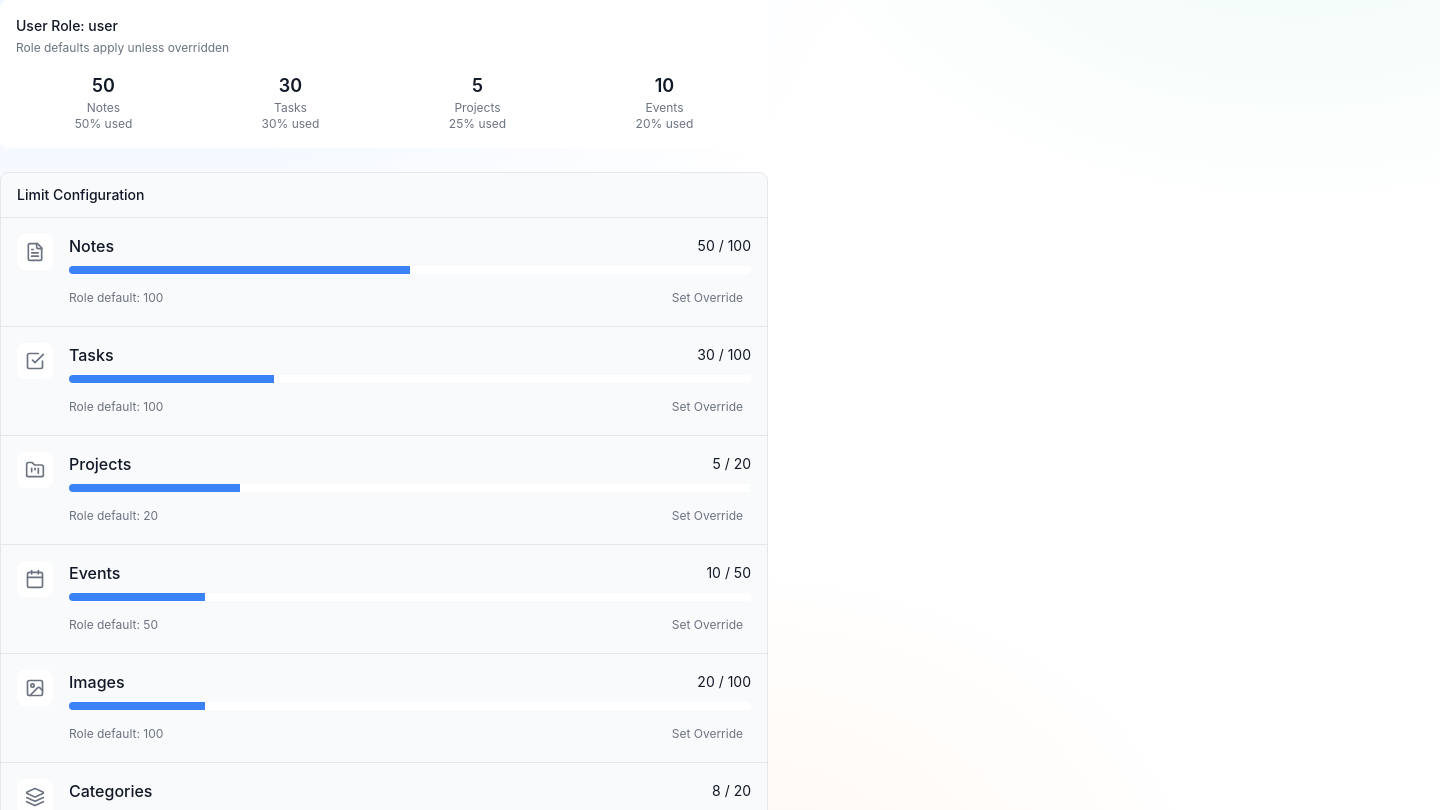
Test case: UserLimitsTab › shows success message after saving
Note: Click Set Override on first item
Click the 1st button "Set Override" at (707, 298), box 664,286 -> 751,310
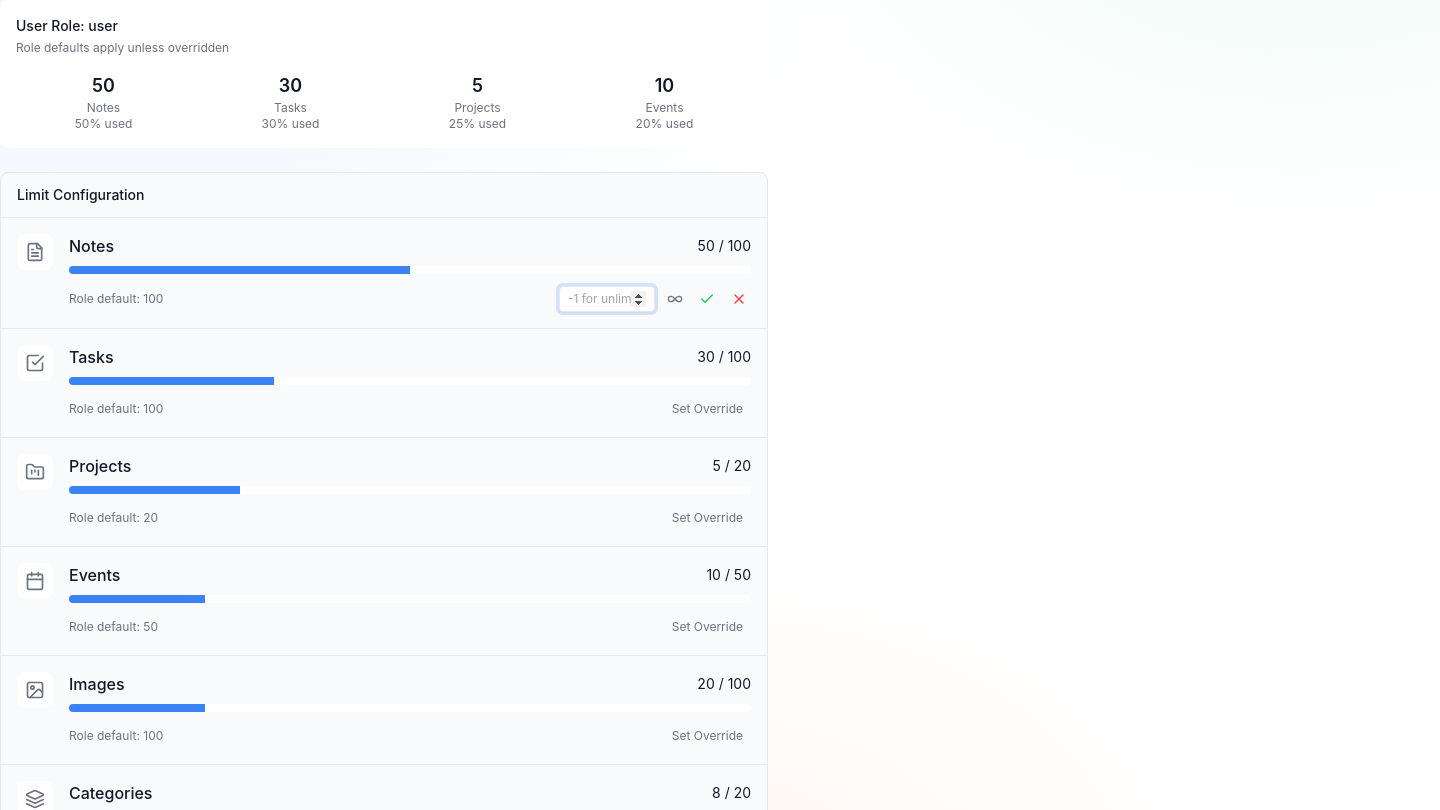
Note: Type a value
Type "200" into the number field at (607, 299), box 559,286 -> 655,312
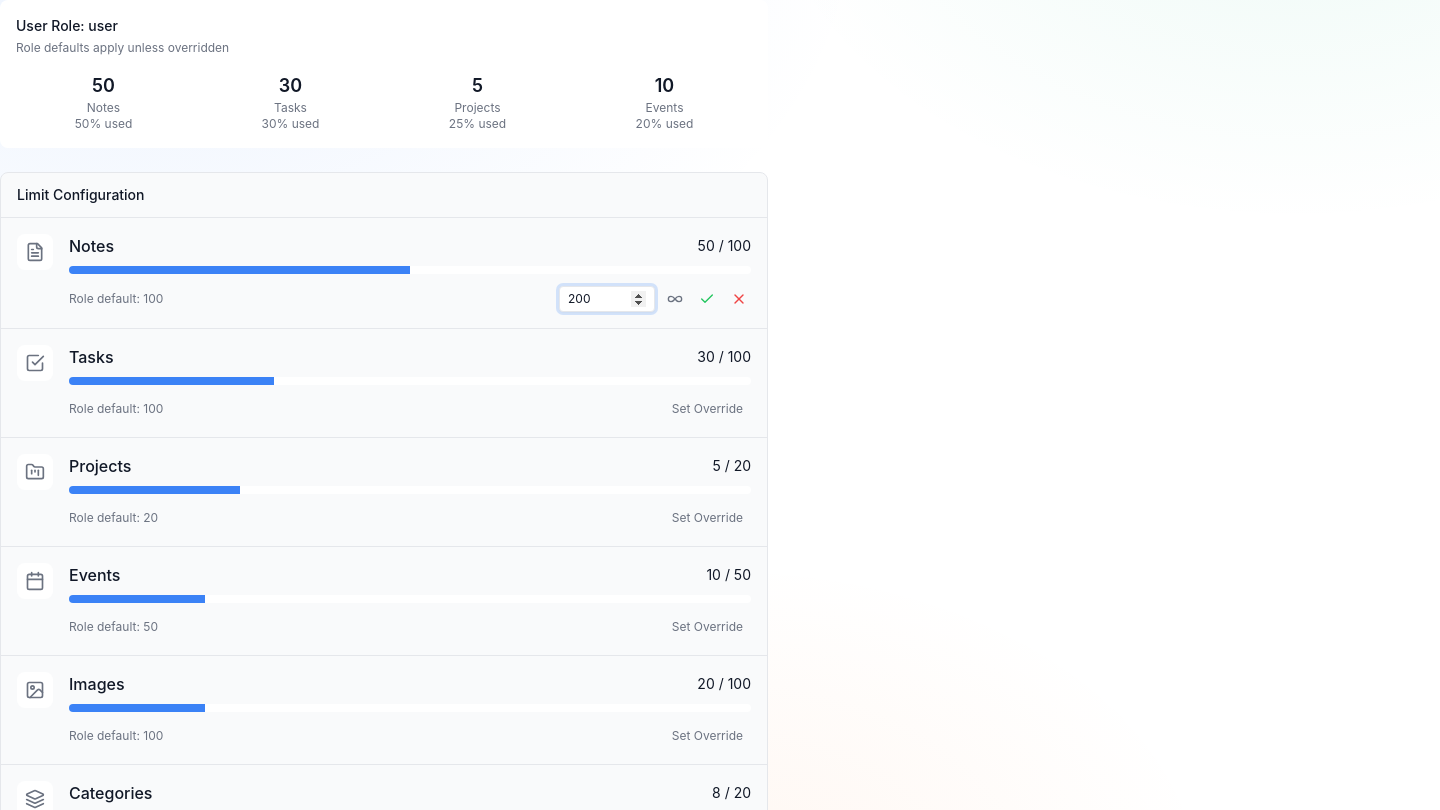
Note: Click save on the row
Click the button titled "Save" at (707, 299), box 695,287 -> 719,311
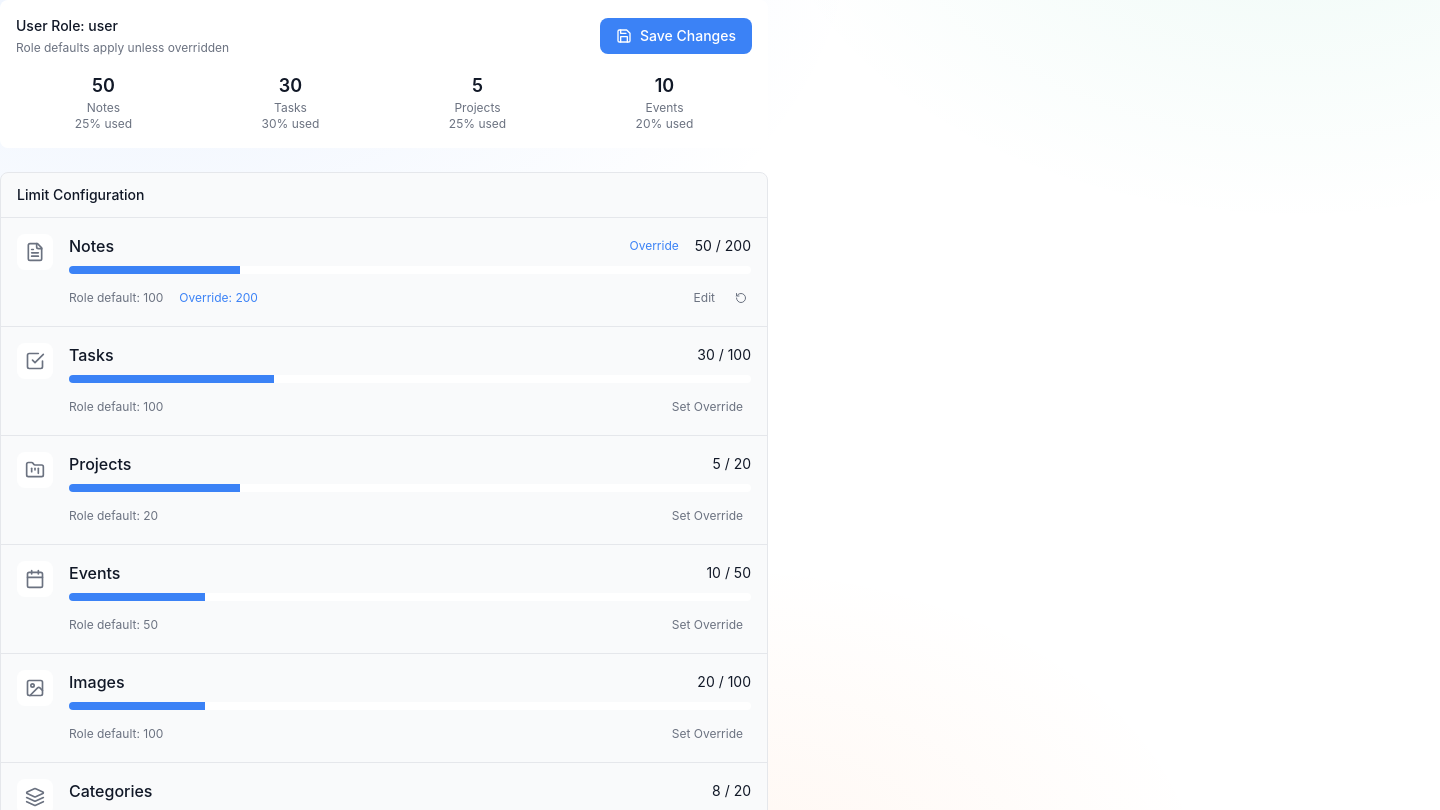
Note: Click Save Changes
Click the button "Save Changes" at (676, 36), box 600,18 -> 752,54
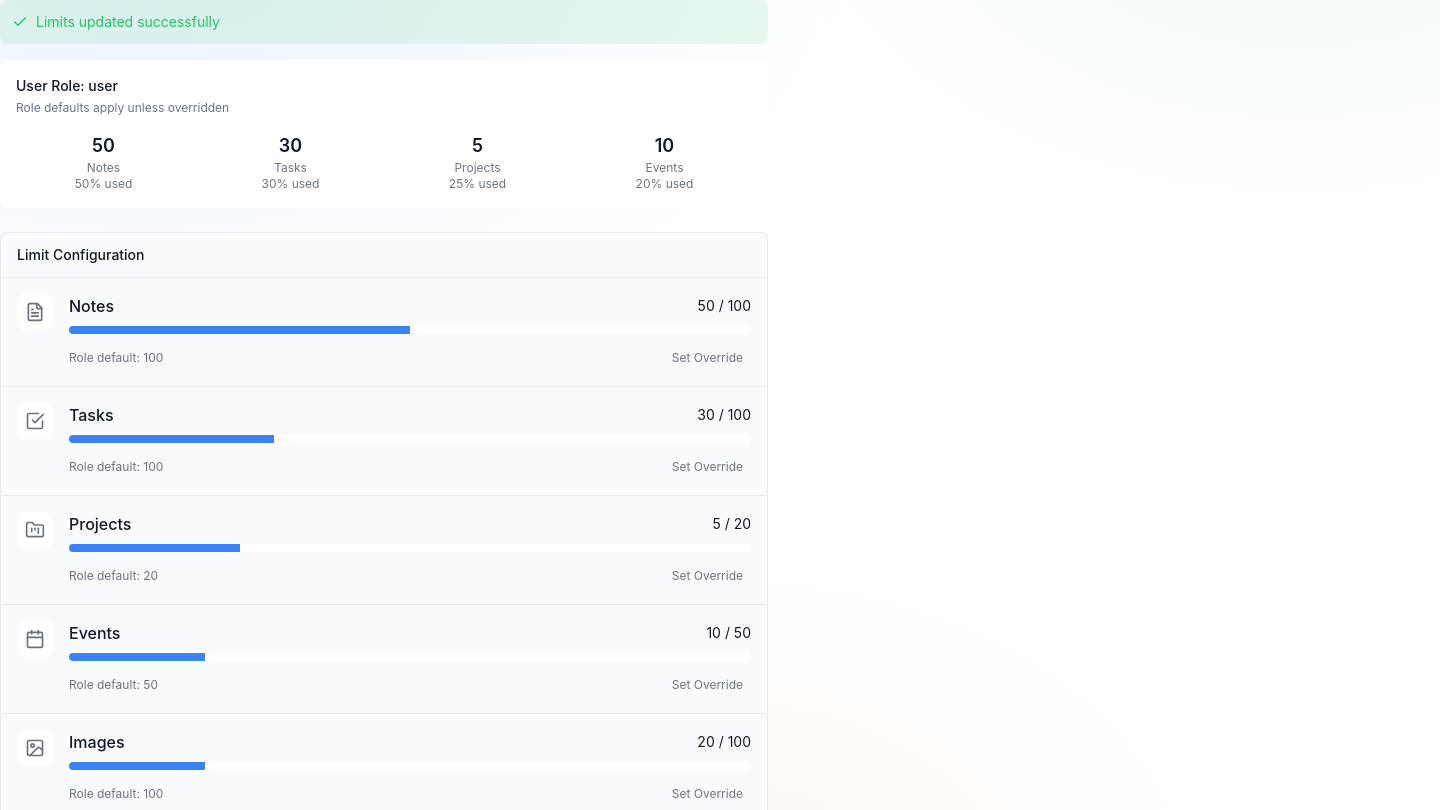
Expected: the text "Limits updated successfully" is shown, 0,0 -> 768,44
